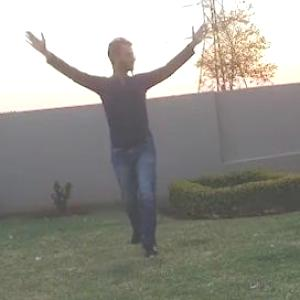takeoff: (16, 29, 205, 246)
